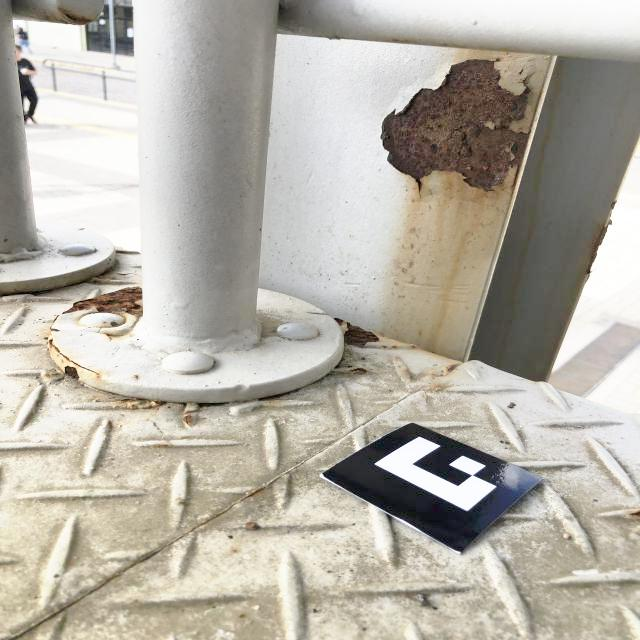Corrosion: (382, 58, 531, 191), (47, 315, 100, 375), (65, 287, 142, 316), (587, 217, 612, 278), (334, 318, 380, 347), (63, 12, 94, 26), (64, 366, 78, 380), (182, 413, 193, 426), (446, 364, 461, 373), (347, 367, 368, 373), (147, 400, 163, 405), (119, 399, 139, 402)
